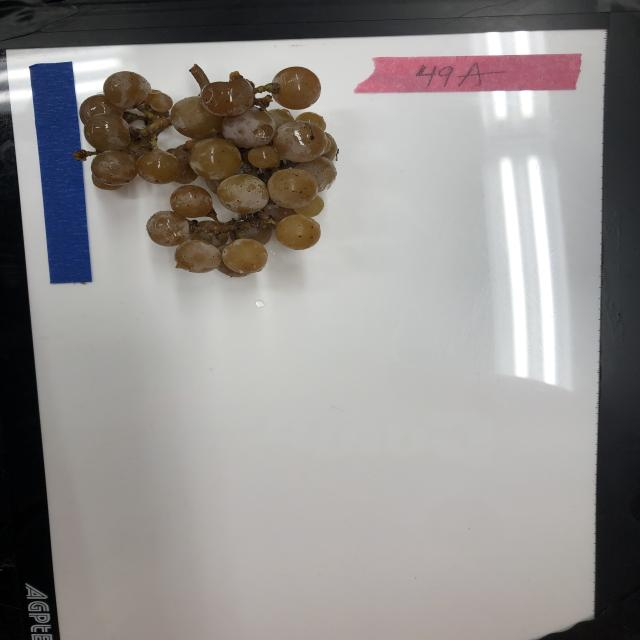grape_cluster: (76, 60, 343, 282)
index: (355, 54, 583, 95)
measure_label: (26, 58, 96, 285)
